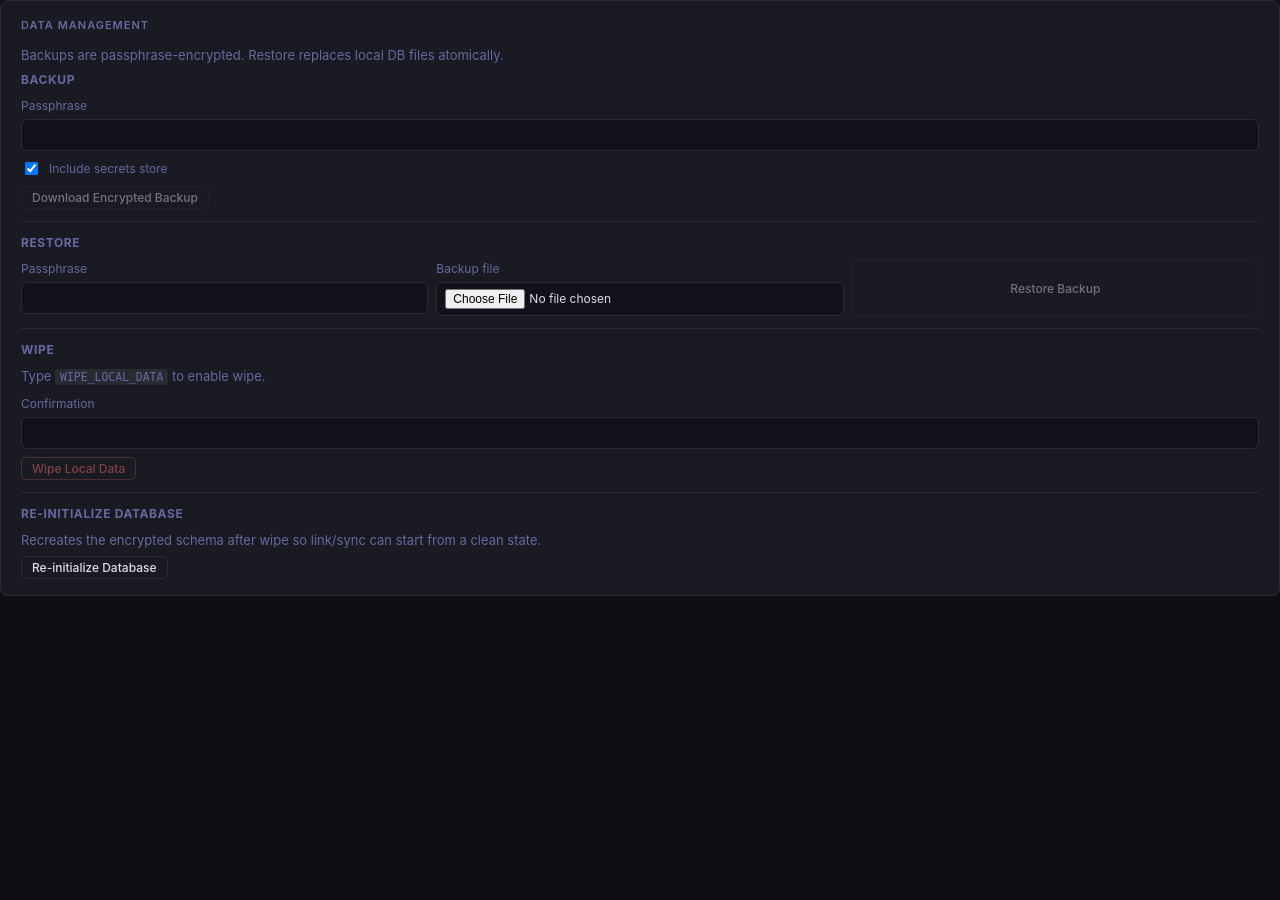
Test: DataManagementPanel › re-initializes database and notifies parent  REQ: ACC-BKP-006
The image size is (1280, 900).
Click the button with test id "reinitialize-submit-btn" at (94, 568), box top-left (21, 556), bottom-right (168, 579)
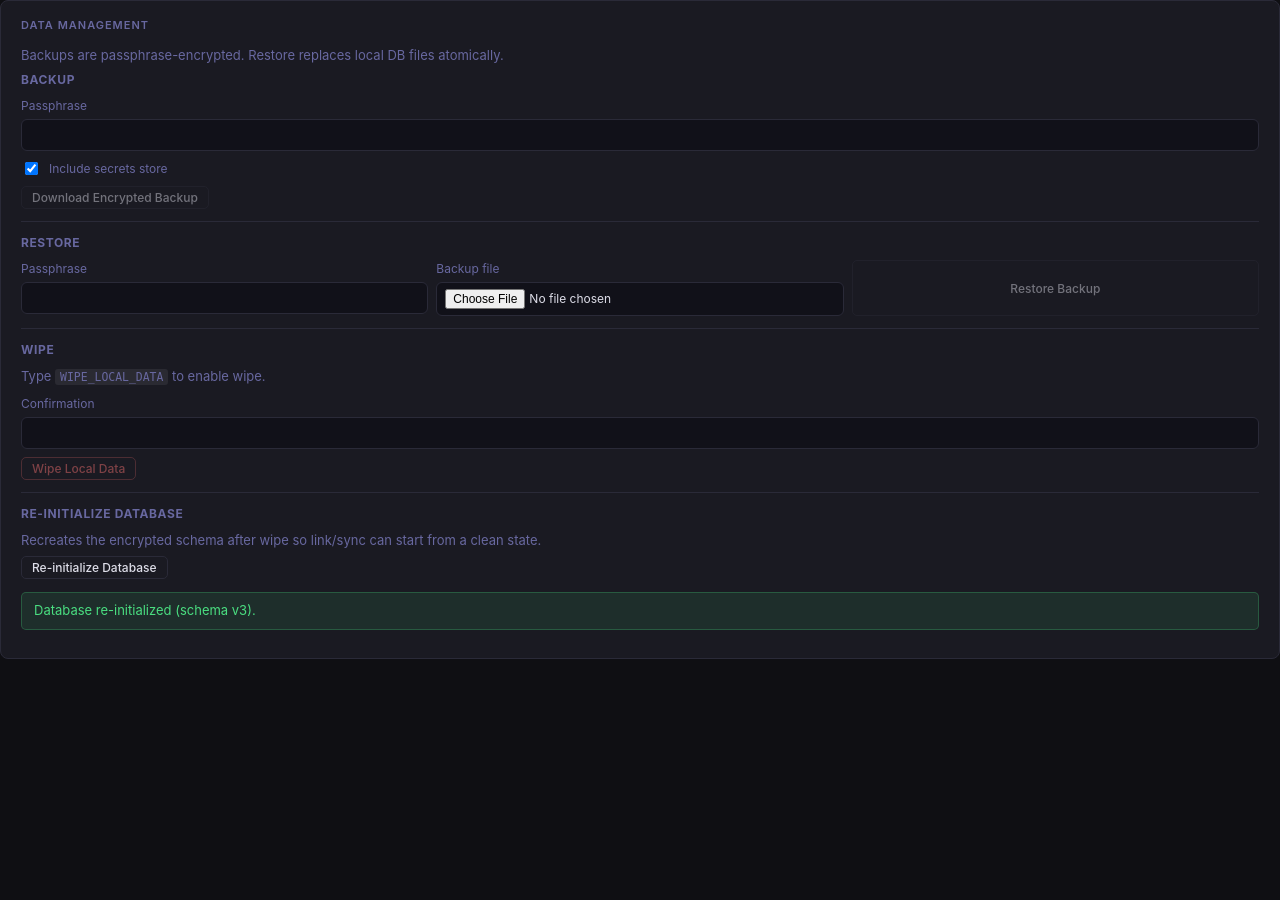
Result: the text "Database re-initialized (schema v3)." is shown at top-left (21, 592), bottom-right (1259, 630)
